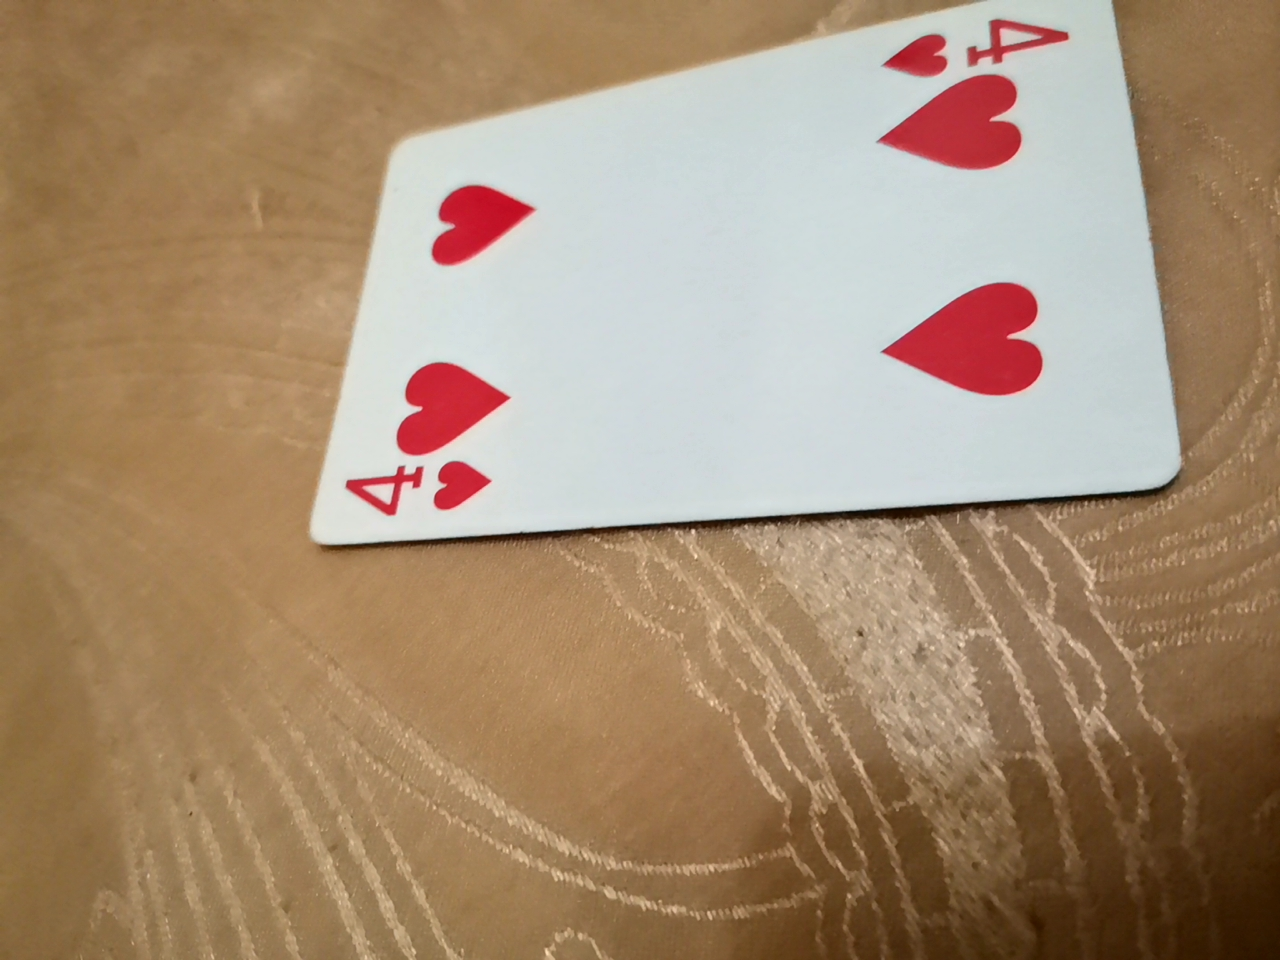hx 4: (342, 4, 1161, 543)
